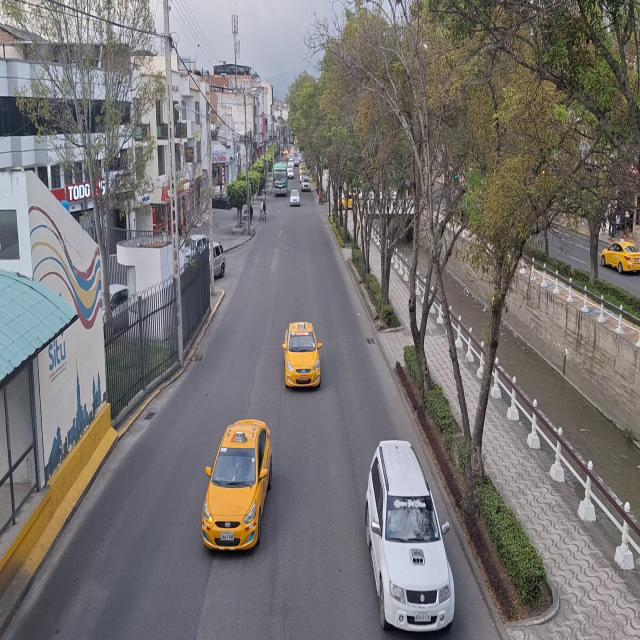BUS: (274, 165, 287, 195)
SED: (203, 422, 269, 552)
SUV: (366, 435, 447, 638)
